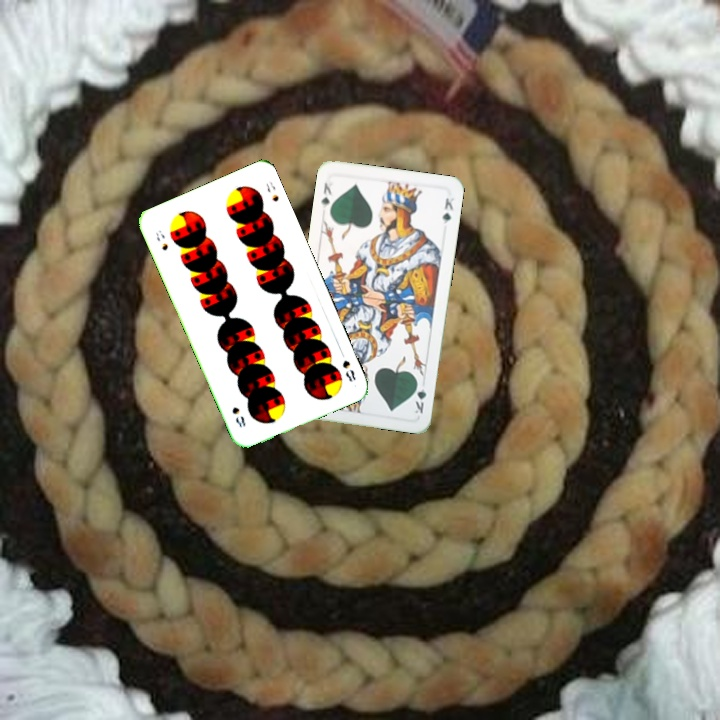GK: (410, 377, 429, 416), (317, 179, 335, 211)
S8: (338, 356, 358, 384), (152, 226, 170, 253)
